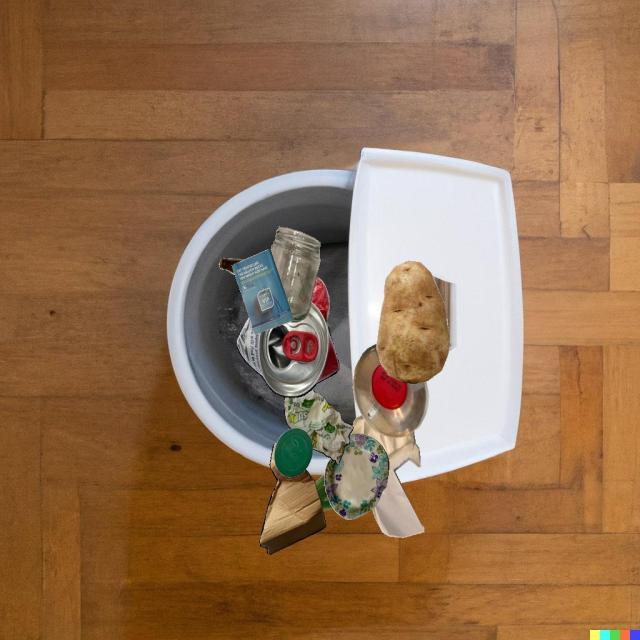biowaste: (376, 261, 450, 383)
cardboard: (259, 443, 326, 555), (324, 433, 389, 520)
glass: (271, 227, 320, 322), (315, 474, 333, 510), (219, 258, 245, 275)
metal: (237, 276, 339, 397)
paper: (351, 415, 424, 538), (232, 249, 294, 334), (284, 389, 353, 465)
plastic: (353, 344, 429, 438), (274, 428, 312, 477)
